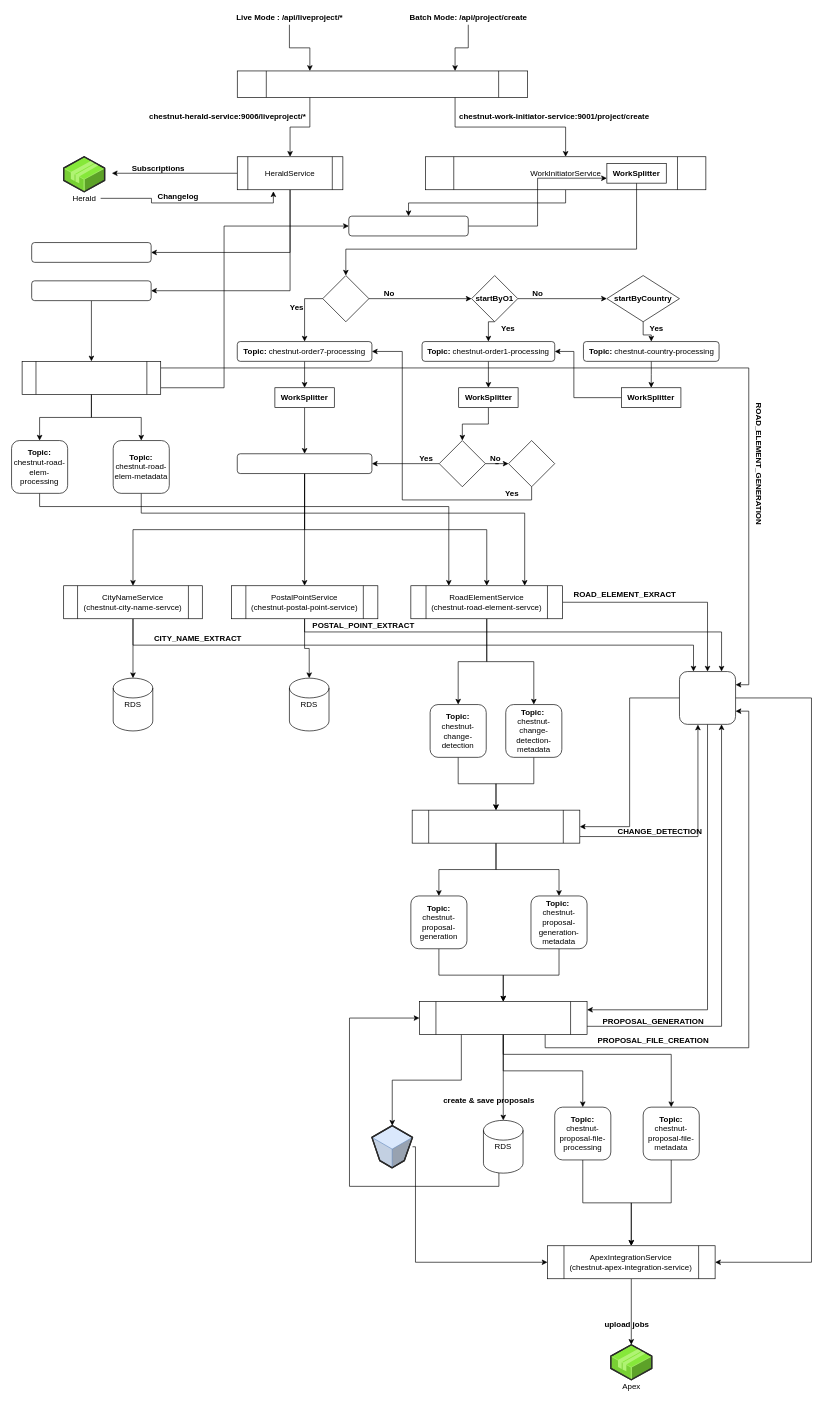
Image size: 828x1404. Some labels were removed from this diagram. The centre of each missing label's shape, as x and y in pixels:
"API Gateway" goes at (382,83).
"ChangeDetectionService (chestnut-change-detection-service)" goes at (496,826).
"ChangeLogService (chestnut-change-log-service)" goes at (91,377).
"chestnut-herald-changelog" goes at (91,290).
"chestnut-new-live-project" goes at (91,252).
"ProposalService (chestnut-proposal-service)" goes at (503,1018).
"S3 Bucket" goes at (391,1146).
"splitToO7" goes at (531,463).
"splitToO8" goes at (462,463).
"startByO7" goes at (345,298).
"Topic: chestnut-new-project" goes at (408,225).
"Topic: chestnut-order8-processing" goes at (304,463).
"Topic: chestnut-process-completion" goes at (707,697).
